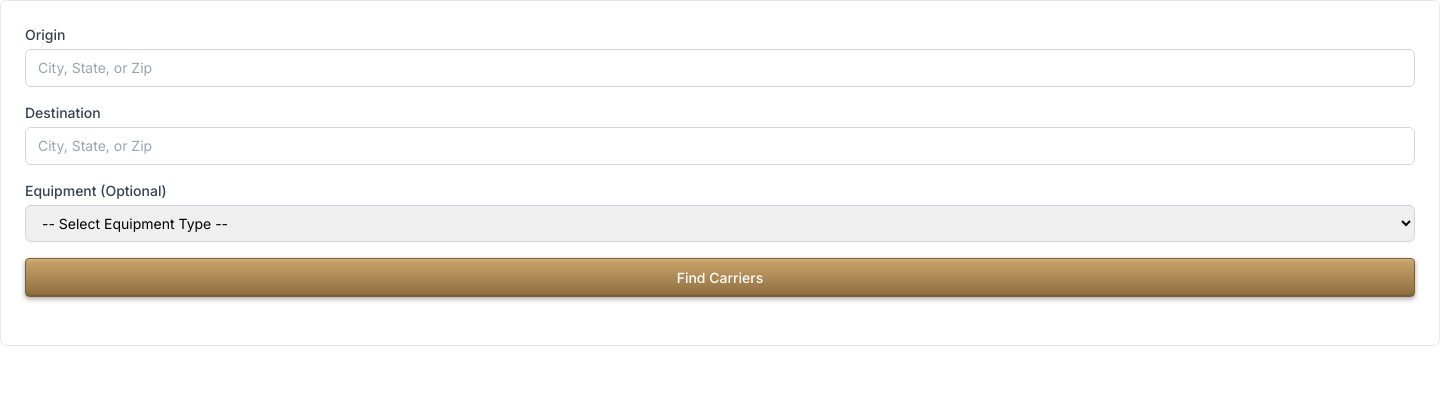
Scenario: CarrierSearchPanel › validates that origin is required
Click the button with test id "carrier-search-submit-btn" at (720, 278), box [25, 258, 1415, 297]
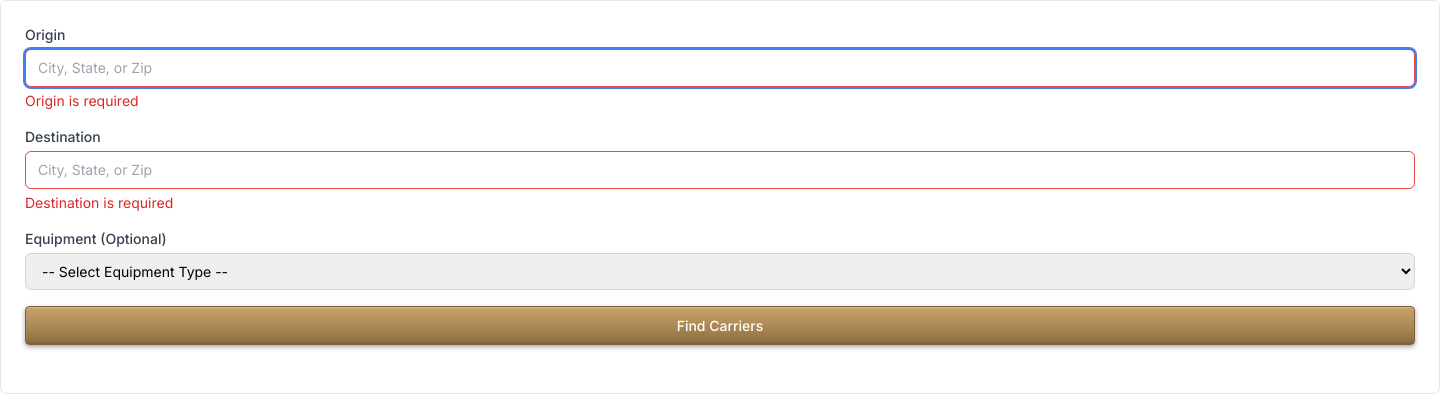
Expected: the text "Origin is required" is shown, [25, 92, 139, 109]
